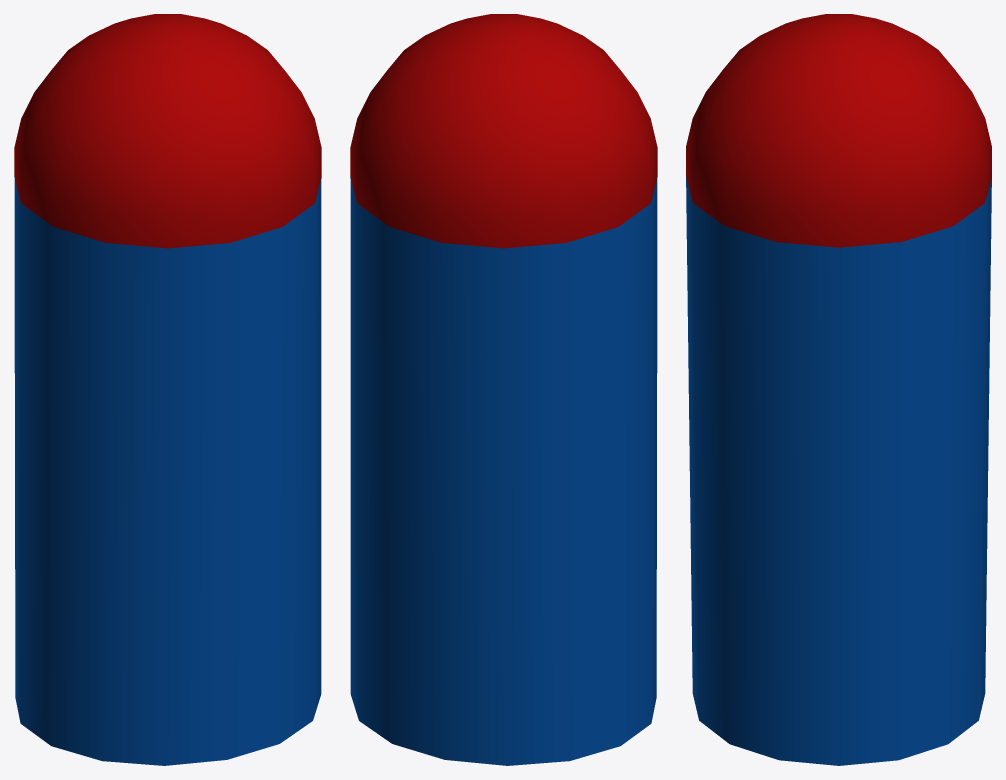
Rendered from Obstacle 3.fbx.
3 views of the same model, side by side, from view 1: azimuth 30°, elevation 25°; view 2: azimuth 150°, elevation 25°; view 3: azimuth 270°, elevation 25° (orthographic).
Parts seen in each view (by area): view 1: Obstacle_3; view 2: Obstacle_3; view 3: Obstacle_3.
Part boxes in pixels (<box>): Obstacle_3: <box>14,14,321,765</box>; Obstacle_3: <box>350,14,657,765</box>; Obstacle_3: <box>686,14,991,765</box>.
Size of the model in its own units: 12.96 by 31.3 by 12.91.
